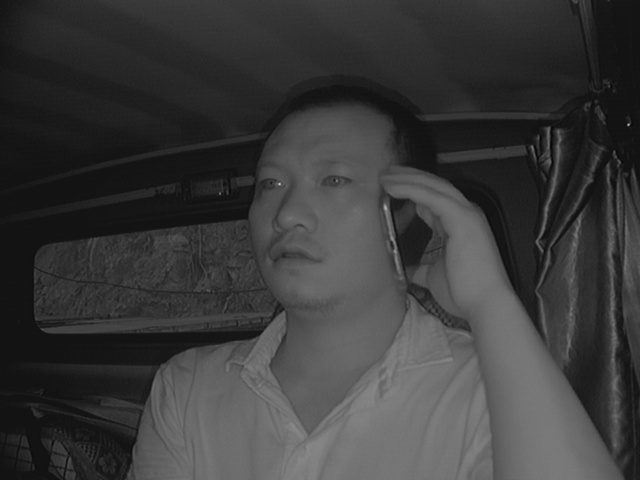hand: (378, 159, 492, 309)
